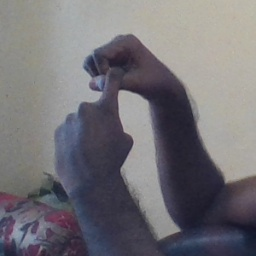Q: (49, 29, 161, 184)
